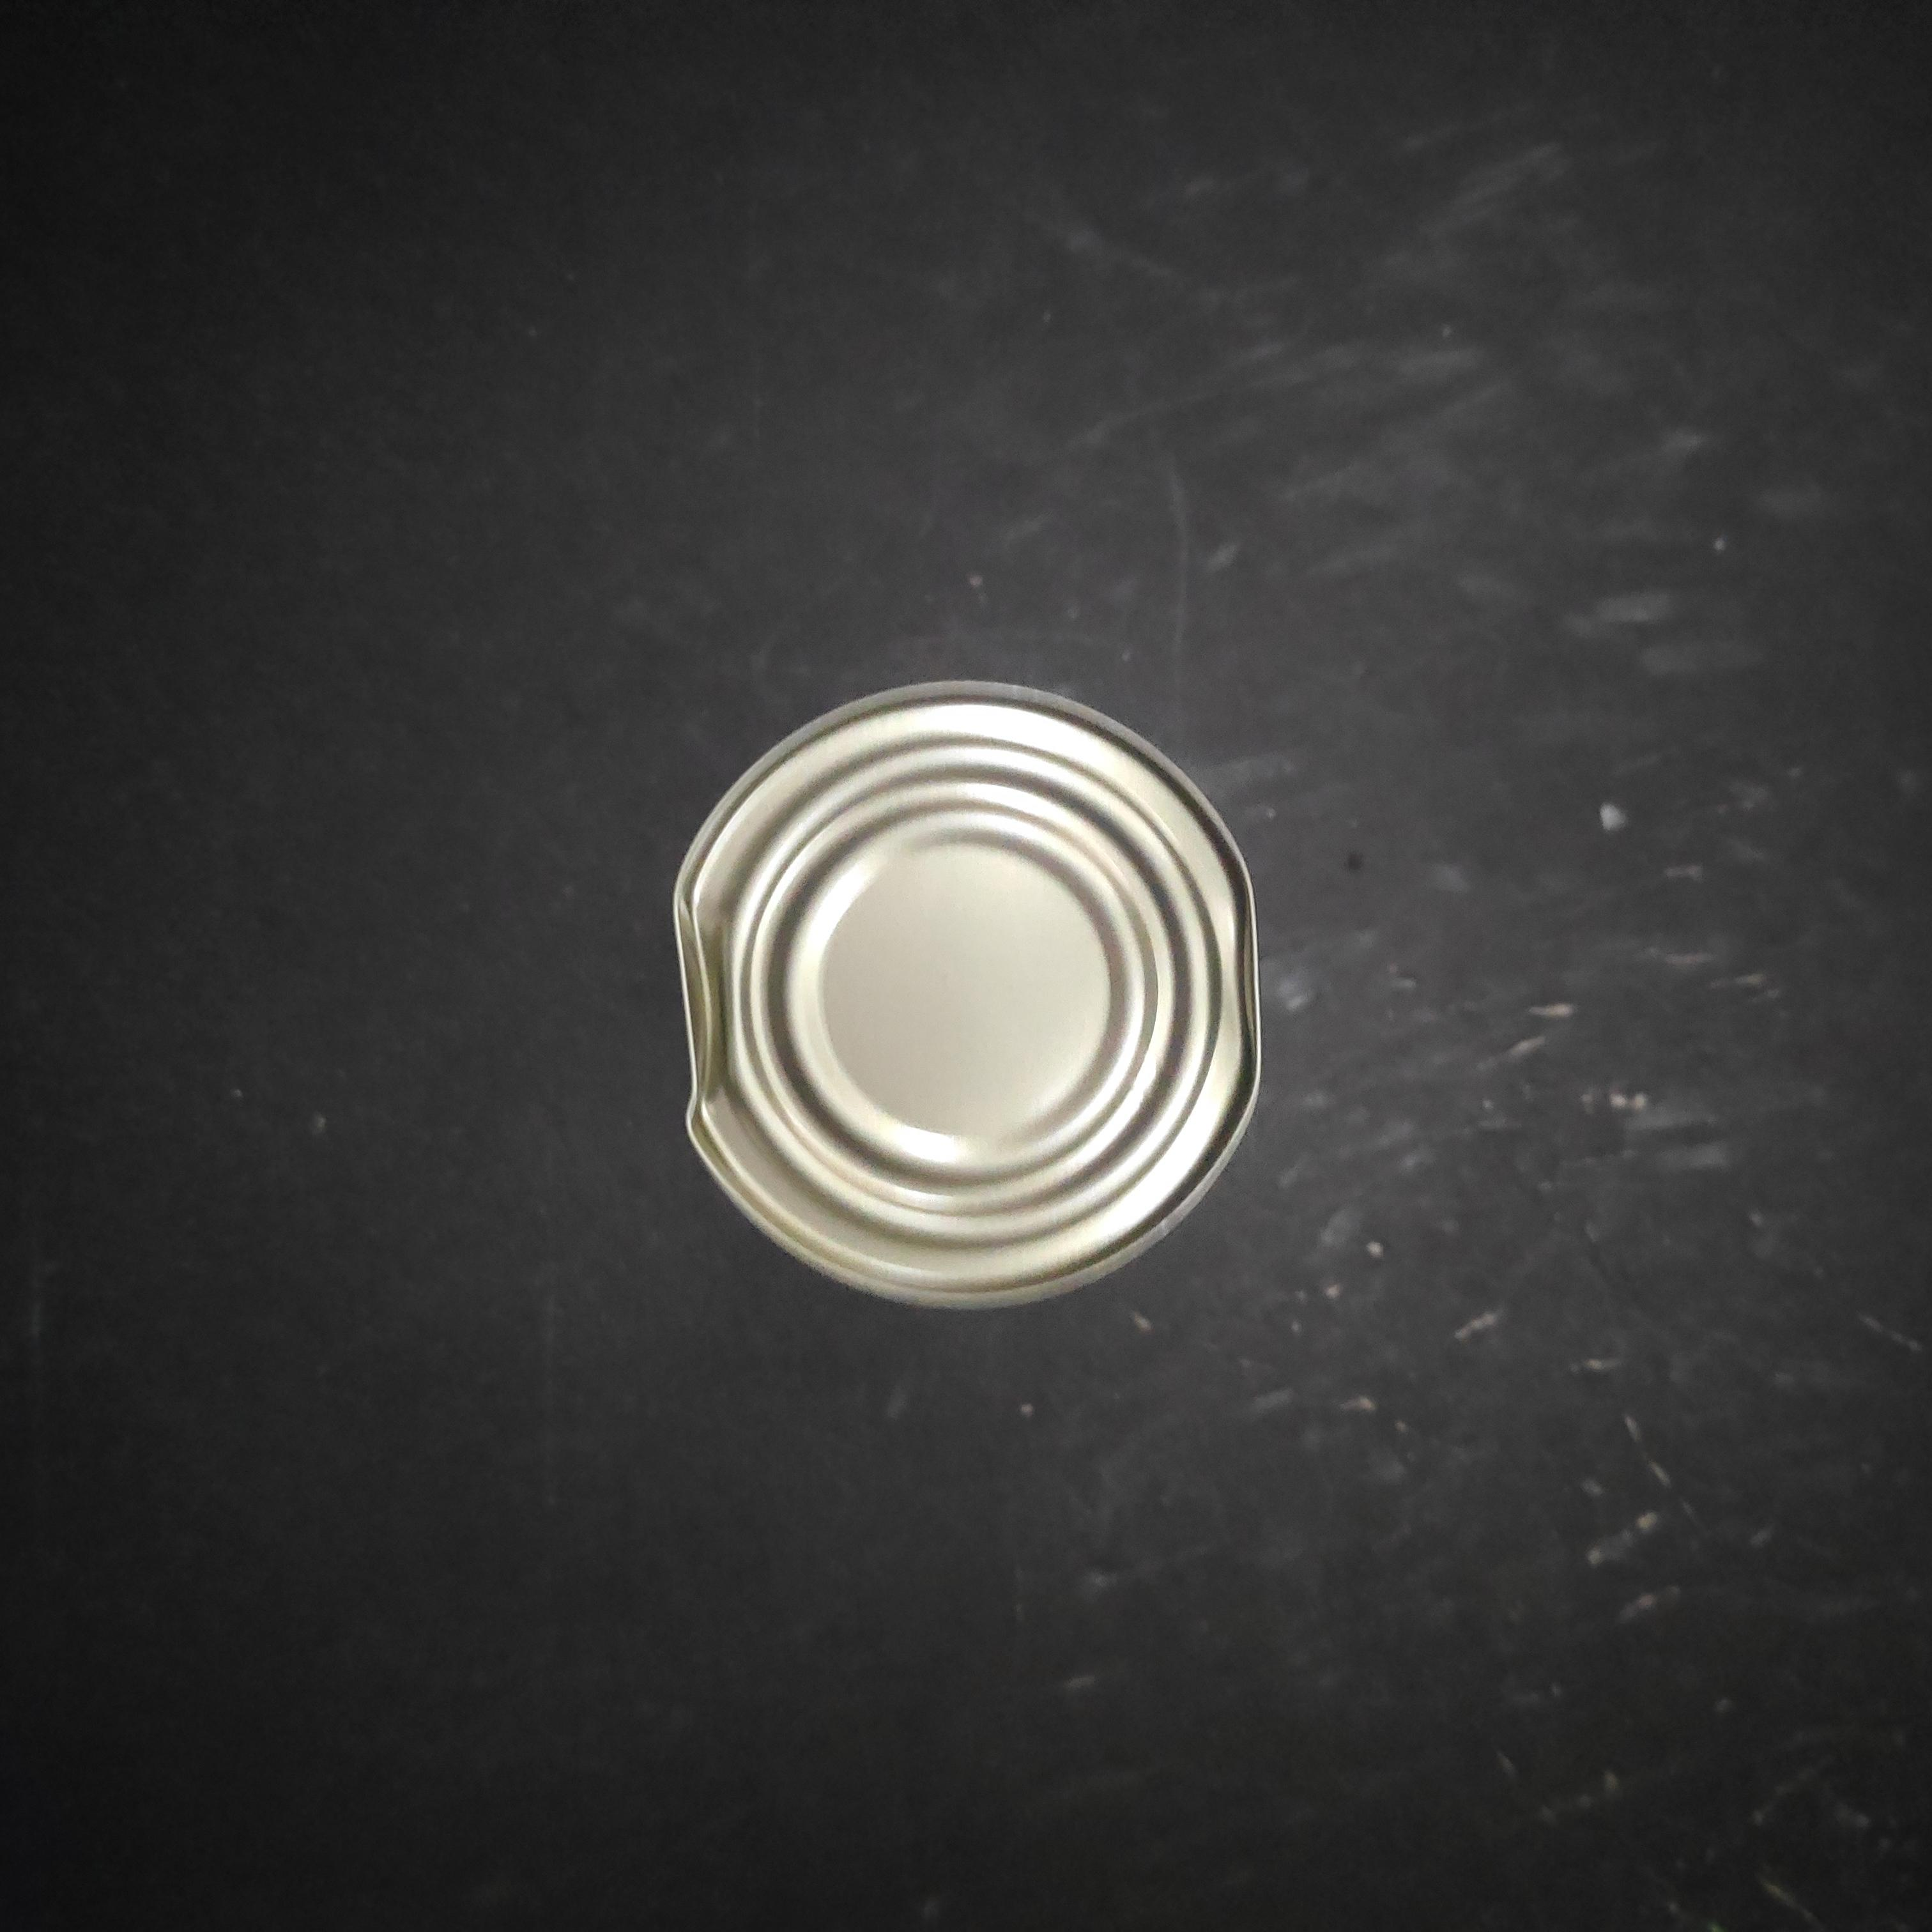Minor Defect: (656, 607, 1272, 1272)
